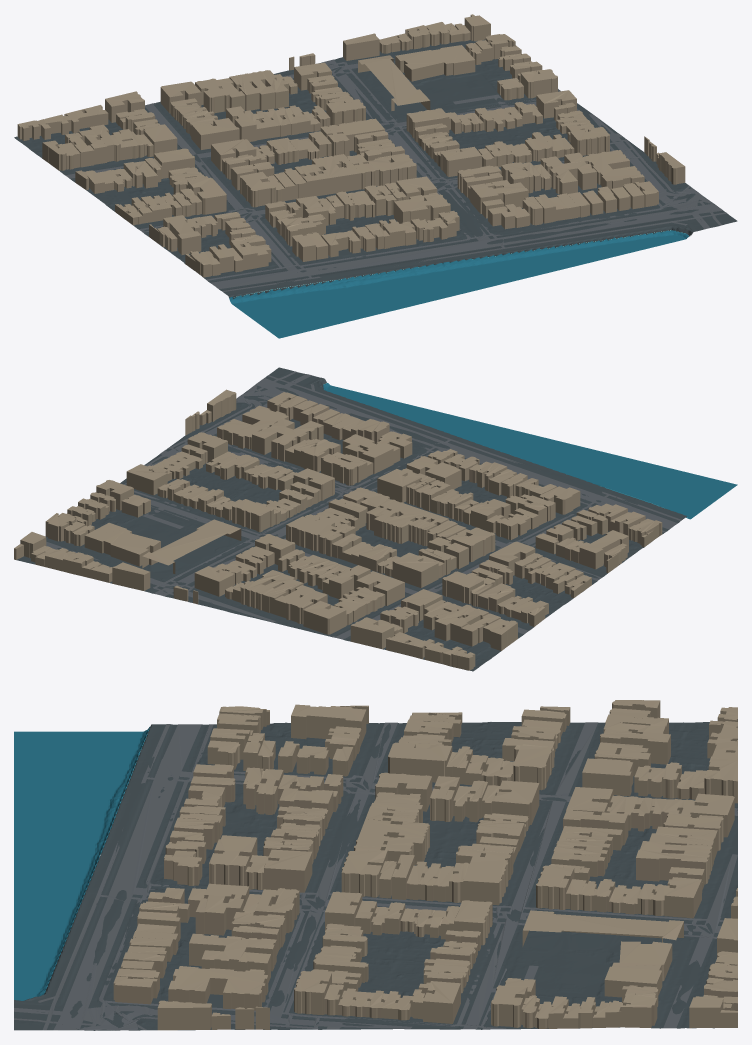
Rendered from epsg26910-1429-10896.lod0.glb.
3 views of the same model, one above another, from view 1: azimuth 30°, elevation 25°; view 2: azimuth 150°, elevation 25°; view 3: azimuth 270°, elevation 25° (orthographic). The views are drawn at different scales.
Visible parts, largest first — view 1: epsg26910-1429-10896-lod0; view 2: epsg26910-1429-10896-lod0; view 3: epsg26910-1429-10896-lod0.
Boxes of the visible parts, <box> form: epsg26910-1429-10896-lod0: <box>14,14,737,338</box>; epsg26910-1429-10896-lod0: <box>14,367,737,671</box>; epsg26910-1429-10896-lod0: <box>14,700,737,1030</box>.
Size of the model in its own units: 384 by 19.1 by 384.
